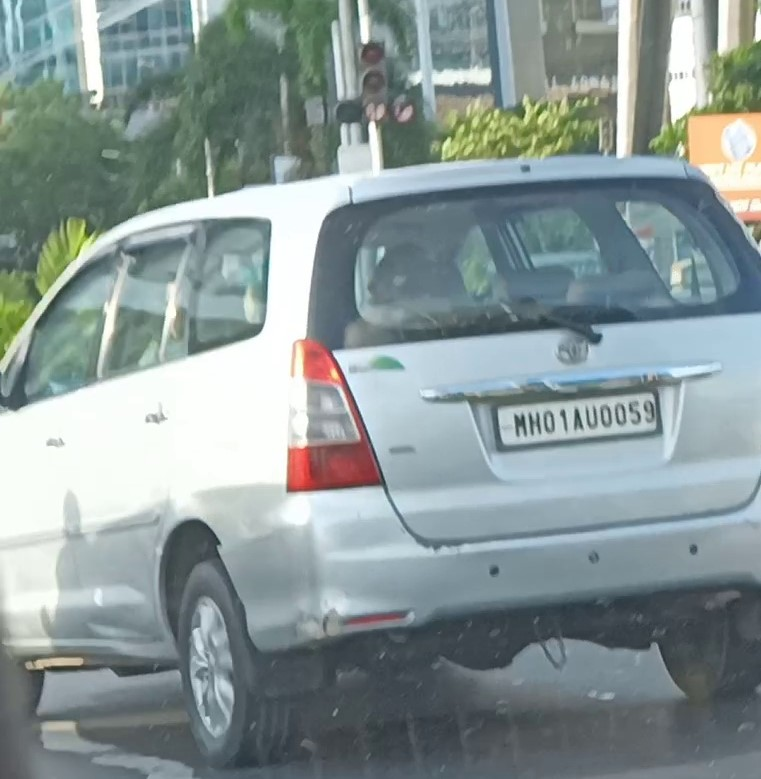MH01AU0059: (498, 392, 659, 441)
